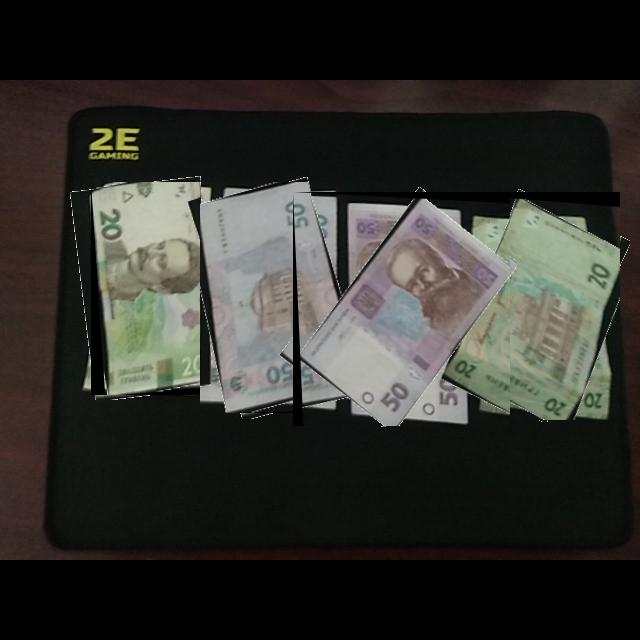20uah: (451, 198, 621, 421), (92, 182, 211, 396)
50uah: (300, 197, 511, 427), (200, 182, 343, 414)
